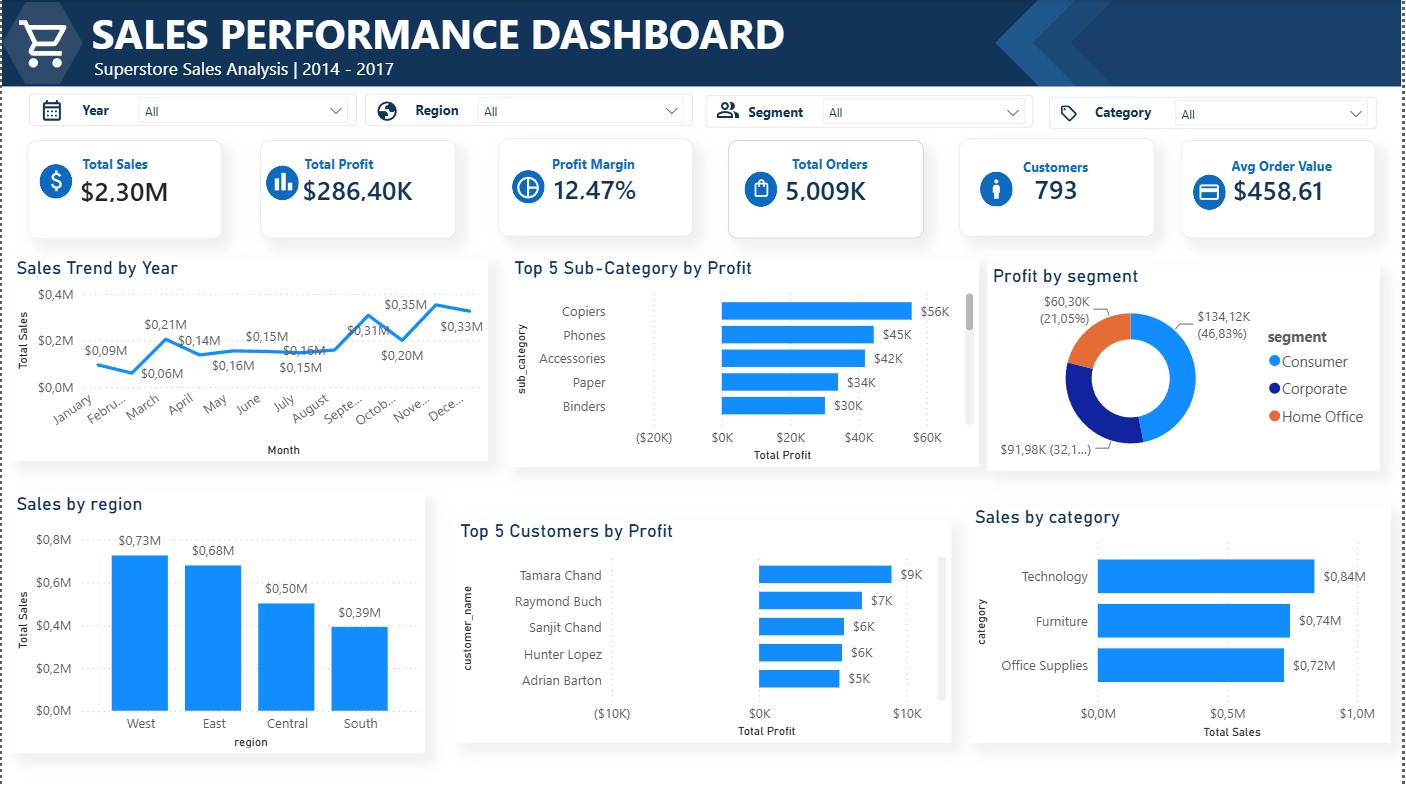

Layout of this report page (visuals, bound fields, positions):
{"tool":"powerbi","page":{"name":"Page 1","canvas":[1280,720],"ordinal":0},"visuals":[{"type":"shape","box":[0,0,1280,80],"z":0},{"type":"textbox","box":[77.3,0,1202.7,78.7],"z":1000},{"type":"textbox","box":[79,47,1201,32],"z":2000},{"type":"cardVisual","title":"Total Sales","fields":{"Data":["Superstore.Total Sales"]},"box":[23.5,128.7,178.3,90.4],"z":3000},{"type":"cardVisual","title":"Total Profit","fields":{"Data":["Superstore.Total Profit"]},"box":[236.4,129.1,179.1,90],"z":4000},{"type":"cardVisual","title":"Profit Margin","fields":{"Data":["Superstore.Profit Margin %"]},"box":[453.6,128.2,178.2,90],"z":5000},{"type":"cardVisual","title":"Total Orders","fields":{"Data":["Superstore.Total Orders"]},"box":[664.5,129.1,179.1,90],"z":6000},{"type":"cardVisual","title":"Customers","fields":{"Data":["Superstore.Total Customers"]},"box":[875.5,128.2,179.1,90],"z":7000},{"type":"cardVisual","title":"Average Orders","fields":{"Data":["Superstore.Average Order Value"]},"box":[1079.1,129.1,178.2,90],"z":8000},{"type":"lineChart","title":"Sales Trend by Year","fields":{"Y":["Superstore.Total Sales"],"Category":["Superstore.order_date.Variation.Date Hierarchy.Month"]},"box":[8.3,236.7,436.7,186.7],"z":9000},{"type":"clusteredBarChart","title":"Sales by category","fields":{"Category":["Superstore.category"],"Y":["Superstore.Total Sales"]},"box":[885,463.3,385,216.7],"z":10000},{"type":"clusteredBarChart","title":"Top 5 Customers by Profit","fields":{"Category":["Superstore.customer_name"],"Y":["Superstore.Total Profit"]},"box":[10.2,478.2,453.4,202.6],"z":11000},{"type":"clusteredBarChart","title":"Top 5 Sub-Category by Profit","fields":{"Category":["Superstore.sub_category"],"Y":["Superstore.Total Profit"]},"box":[463.3,236.7,430,191.7],"z":12000},{"type":"donutChart","title":"Profit by segment","fields":{"Category":["Superstore.segment"],"Y":["Superstore.Total Profit"]},"box":[901.7,243.3,358.3,188.3],"z":13000},{"type":"clusteredColumnChart","title":"Sales by region","fields":{"Category":["Superstore.region"],"Y":["Superstore.Total Sales"]},"box":[482.6,460.7,377.6,237.6],"z":14000},{"type":"shape","box":[24.2,87.1,300,30],"z":15000},{"type":"slicer","title":"Year","fields":{"Values":["Superstore.order_date.Variation.Date Hierarchy.Year"]},"box":[115.3,80,211.1,38.9],"z":16000},{"type":"textbox","box":[68.4,85.8,42.1,35.3],"z":17000},{"type":"shape","box":[331.9,87.1,300,30],"z":18000},{"type":"slicer","title":"Year","fields":{"Values":["Superstore.region"]},"box":[425.7,80,208.3,38.7],"z":19000},{"type":"textbox","box":[372.6,87,63.9,34.8],"z":20000},{"type":"shape","box":[643.8,87.5,300,30],"z":21000},{"type":"slicer","title":"Year","fields":{"Values":["Superstore.segment"]},"box":[741.3,80.4,204.8,38.7],"z":22000},{"type":"textbox","box":[677.8,87.4,76.1,34.8],"z":23000},{"type":"shape","box":[957.5,88.9,300,30],"z":24000},{"type":"slicer","title":"Year","fields":{"Values":["Superstore.category"]},"box":[1063.5,81.7,196.1,38.7],"z":25000},{"type":"textbox","box":[994.3,87.4,77,35.2],"z":26000},{"type":"image","box":[340,91.8,23.5,21.2],"z":27000},{"type":"image","box":[24,90.5,44.5,22.5],"z":28000},{"type":"image","box":[650.9,90.9,27.7,22.3],"z":29000},{"type":"image","box":[965,96,22.5,17.5],"z":30000},{"type":"shape","box":[34.7,151.2,30,31.8],"z":31000},{"type":"image","box":[37,152.9,25.3,28.2],"z":32000},{"type":"textbox","box":[68.2,136.5,82.9,29.4],"z":33000},{"type":"shape","box":[241.9,152.5,30,31.9],"z":34000},{"type":"shape","box":[466.8,156.8,30,30.7],"z":35000},{"type":"shape","box":[679.2,157.5,30,32.5],"z":36000},{"type":"shape","box":[894.1,158.2,30,32.3],"z":37000},{"type":"shape","box":[1089.2,160.8,30,32.5],"z":38000},{"type":"textbox","box":[271.8,136.5,74.1,28.8],"z":39000},{"type":"textbox","box":[498.2,136.5,88.8,29.4],"z":40000},{"type":"textbox","box":[717.7,136.2,80.8,28.5],"z":41000},{"type":"textbox","box":[929.2,138.5,82.3,27.7],"z":42000},{"type":"textbox","box":[1119.2,137.7,102.3,29.2],"z":43000},{"type":"image","box":[242.5,155,29.5,24],"z":44000},{"type":"image","box":[468.3,160.3,26.9,23.8],"z":45000},{"type":"image","box":[684.3,163.9,20,19.1],"z":46000},{"type":"image","box":[892.7,160.9,32.7,26.4],"z":47000},{"type":"image","box":[1093.5,165.9,21.2,21.8],"z":48000},{"type":"shape","box":[0,2.4,74.1,75.3],"z":49000},{"type":"image","box":[6.5,15.3,65.3,51.8],"z":50000},{"type":"shape","box":[908.9,0,371.1,80],"z":51000},{"type":"shape","box":[943.3,0,336.7,80],"z":52000},{"type":"shape","box":[976.7,0,303.3,80],"z":53000}]}

Visuals, with their boxes in screenshot pixels (x1, y1, x2, y2), scaled from the page's 1280x720 canvas onto the 1406x785 screenshot:
shape: {"left": 0, "top": 0, "right": 1405, "bottom": 87}
textbox: {"left": 85, "top": 0, "right": 1405, "bottom": 86}
textbox: {"left": 87, "top": 51, "right": 1405, "bottom": 86}
"Total Sales" cardVisual: {"left": 26, "top": 140, "right": 222, "bottom": 239}
"Total Profit" cardVisual: {"left": 260, "top": 141, "right": 456, "bottom": 239}
"Profit Margin" cardVisual: {"left": 498, "top": 140, "right": 694, "bottom": 238}
"Total Orders" cardVisual: {"left": 730, "top": 141, "right": 927, "bottom": 239}
"Customers" cardVisual: {"left": 962, "top": 140, "right": 1158, "bottom": 238}
"Average Orders" cardVisual: {"left": 1185, "top": 141, "right": 1381, "bottom": 239}
"Sales Trend by Year" lineChart: {"left": 9, "top": 258, "right": 489, "bottom": 462}
"Sales by category" clusteredBarChart: {"left": 972, "top": 505, "right": 1395, "bottom": 741}
"Top 5 Customers by Profit" clusteredBarChart: {"left": 11, "top": 521, "right": 509, "bottom": 742}
"Top 5 Sub-Category by Profit" clusteredBarChart: {"left": 509, "top": 258, "right": 981, "bottom": 467}
"Profit by segment" donutChart: {"left": 990, "top": 265, "right": 1384, "bottom": 471}
"Sales by region" clusteredColumnChart: {"left": 530, "top": 502, "right": 945, "bottom": 761}
shape: {"left": 27, "top": 95, "right": 356, "bottom": 128}
"Year" slicer: {"left": 127, "top": 87, "right": 359, "bottom": 130}
textbox: {"left": 75, "top": 94, "right": 121, "bottom": 132}
shape: {"left": 365, "top": 95, "right": 694, "bottom": 128}
"Year" slicer: {"left": 468, "top": 87, "right": 696, "bottom": 129}
textbox: {"left": 409, "top": 95, "right": 479, "bottom": 133}
shape: {"left": 707, "top": 95, "right": 1037, "bottom": 128}
"Year" slicer: {"left": 814, "top": 88, "right": 1039, "bottom": 130}
textbox: {"left": 745, "top": 95, "right": 828, "bottom": 133}
shape: {"left": 1052, "top": 97, "right": 1381, "bottom": 130}
"Year" slicer: {"left": 1168, "top": 89, "right": 1384, "bottom": 131}
textbox: {"left": 1092, "top": 95, "right": 1177, "bottom": 134}
image: {"left": 373, "top": 100, "right": 399, "bottom": 123}
image: {"left": 26, "top": 99, "right": 75, "bottom": 123}
image: {"left": 715, "top": 99, "right": 745, "bottom": 123}
image: {"left": 1060, "top": 105, "right": 1085, "bottom": 124}
shape: {"left": 38, "top": 165, "right": 71, "bottom": 200}
image: {"left": 41, "top": 167, "right": 68, "bottom": 197}
textbox: {"left": 75, "top": 149, "right": 166, "bottom": 181}
shape: {"left": 266, "top": 166, "right": 299, "bottom": 201}
shape: {"left": 513, "top": 171, "right": 546, "bottom": 204}
shape: {"left": 746, "top": 172, "right": 779, "bottom": 207}
shape: {"left": 982, "top": 172, "right": 1015, "bottom": 208}
shape: {"left": 1196, "top": 175, "right": 1229, "bottom": 211}
textbox: {"left": 299, "top": 149, "right": 380, "bottom": 180}
textbox: {"left": 547, "top": 149, "right": 645, "bottom": 181}
textbox: {"left": 788, "top": 148, "right": 877, "bottom": 180}
textbox: {"left": 1021, "top": 151, "right": 1111, "bottom": 181}
textbox: {"left": 1229, "top": 150, "right": 1342, "bottom": 182}
image: {"left": 266, "top": 169, "right": 299, "bottom": 195}
image: {"left": 514, "top": 175, "right": 544, "bottom": 201}
image: {"left": 752, "top": 179, "right": 774, "bottom": 200}
image: {"left": 981, "top": 175, "right": 1016, "bottom": 204}
image: {"left": 1201, "top": 181, "right": 1224, "bottom": 205}
shape: {"left": 0, "top": 3, "right": 81, "bottom": 85}
image: {"left": 7, "top": 17, "right": 79, "bottom": 73}
shape: {"left": 998, "top": 0, "right": 1405, "bottom": 87}
shape: {"left": 1036, "top": 0, "right": 1405, "bottom": 87}
shape: {"left": 1073, "top": 0, "right": 1405, "bottom": 87}
